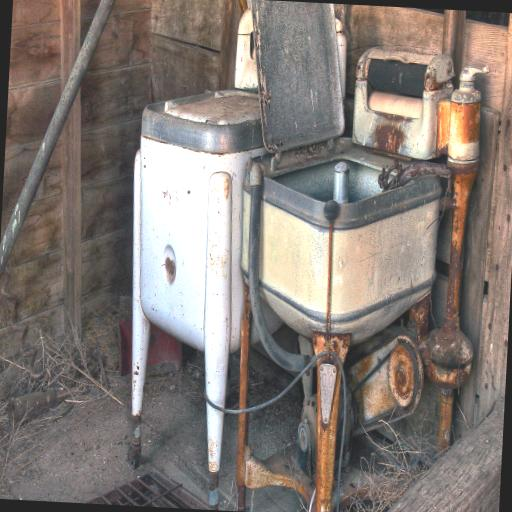segmentation: (420, 172, 475, 449), (312, 224, 350, 512), (346, 332, 423, 432), (142, 90, 264, 153), (449, 89, 480, 161), (239, 284, 252, 409), (389, 345, 414, 405), (398, 162, 451, 186), (236, 414, 248, 510), (410, 294, 430, 344), (375, 125, 404, 153), (378, 159, 404, 190), (165, 258, 175, 273)
